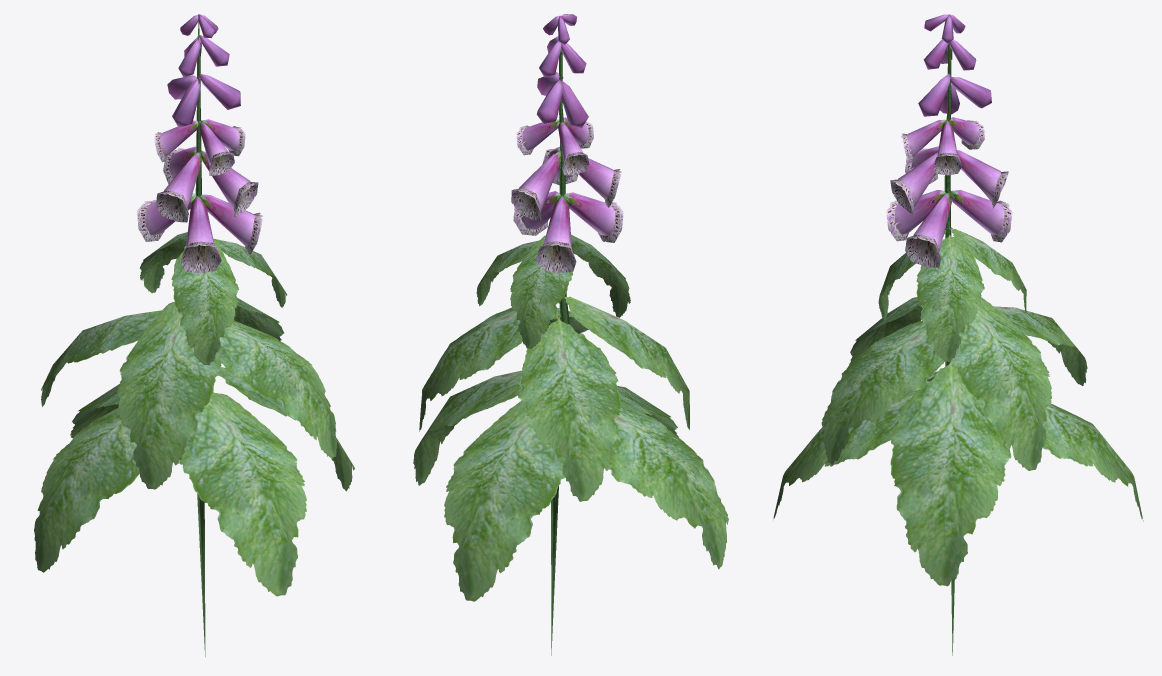
File: Foxglove.obj
3 views of the same model, side by side, from view 1: azimuth 30°, elevation 25°; view 2: azimuth 150°, elevation 25°; view 3: azimuth 270°, elevation 25° (orthographic).
Visible parts, largest first — view 1: Foxglove.001; view 2: Foxglove.001; view 3: Foxglove.001.
Part boxes in pixels (x1=…): Foxglove.001: x1=34, y1=14, x2=354, y2=656; Foxglove.001: x1=413, y1=14, x2=728, y2=655; Foxglove.001: x1=773, y1=14, x2=1143, y2=655.
Bounding box in the file's own units: 0.4861 × 0.9831 × 0.5248.
